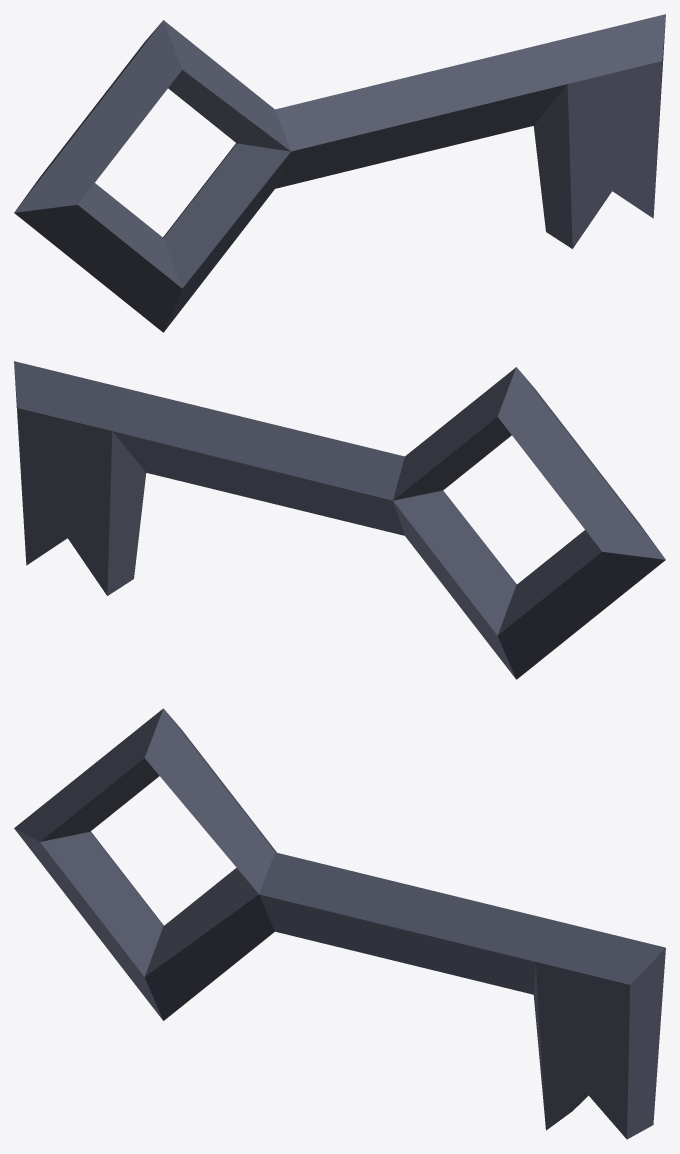
The model's file is Key.fbx.
3 renders of one model, top to bottom at view 1: azimuth 30°, elevation 25°; view 2: azimuth 150°, elevation 25°; view 3: azimuth 330°, elevation 25°, orthographic.
Visible parts, largest first — view 1: Key; view 2: Key; view 3: Key.
Part boxes in pixels (x1,y1,x2,y2): Key: (14,14,665,332); Key: (14,361,665,679); Key: (14,708,665,1139).
Bounding box in the file's own units: 1.48 × 0.6842 × 0.1483.
